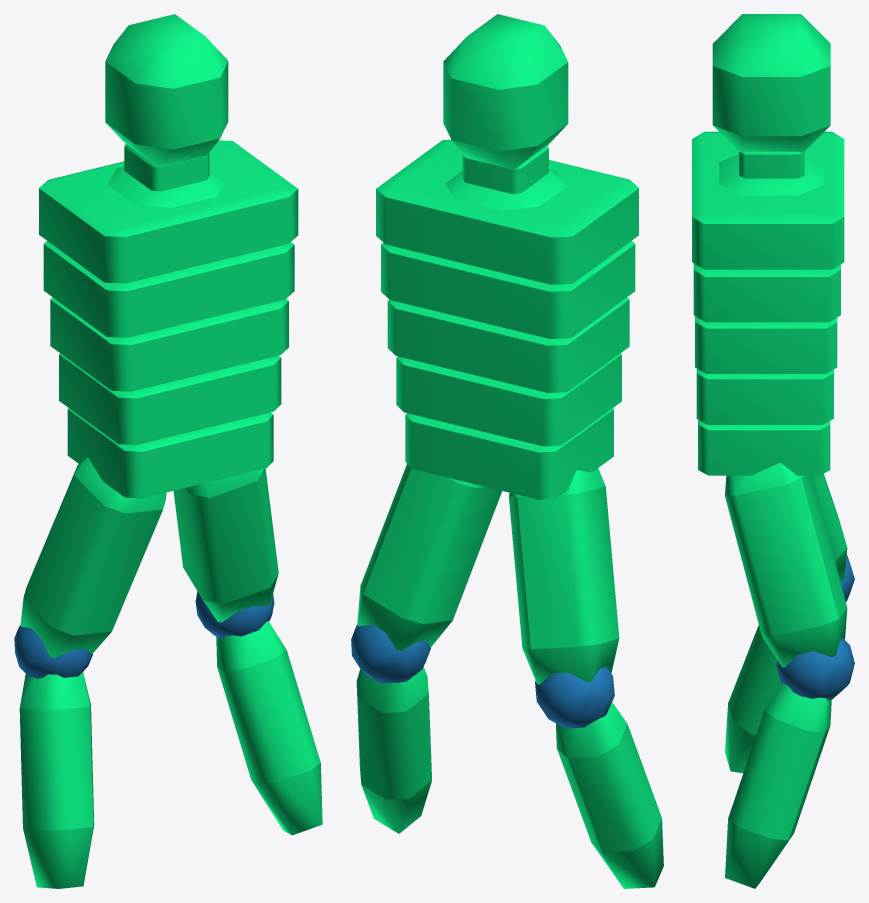
The model's file is Robots and Humanoids.glb.
3 renders of one model, left to right at view 1: azimuth 30°, elevation 25°; view 2: azimuth 150°, elevation 25°; view 3: azimuth 270°, elevation 25°, orthographic. The views are drawn at different scales.
Visible parts, largest first — view 1: Segment (×4), UpperLeg (×2), LowerArm (×2), Head, BottomSegment, Elbow (×2), TorsoConnection, Neck; view 2: Segment (×4), UpperLeg (×2), LowerArm (×2), Head, BottomSegment, Elbow (×2), TorsoConnection, Neck; view 3: Segment (×4), UpperLeg (×2), LowerArm (×2), Head, BottomSegment, Elbow (×2), TorsoConnection, Neck.
Part boxes in pixels (left/top/right/bottom): Segment (×4): left=39, top=140, right=298, bottom=445; UpperLeg (×2): left=20, top=457, right=278, bottom=658; LowerArm (×2): left=19, top=621, right=322, bottom=888; Head: left=105, top=14, right=228, bottom=166; BottomSegment: left=67, top=408, right=273, bottom=498; Elbow (×2): left=14, top=591, right=274, bottom=678; TorsoConnection: left=107, top=167, right=226, bottom=207; Neck: left=124, top=144, right=209, bottom=191; Segment (×4): left=376, top=139, right=638, bottom=446; UpperLeg (×2): left=357, top=464, right=619, bottom=684; LowerArm (×2): left=356, top=667, right=663, bottom=888; Head: left=443, top=14, right=568, bottom=168; BottomSegment: left=405, top=408, right=613, bottom=500; Elbow (×2): left=351, top=624, right=614, bottom=728; TorsoConnection: left=445, top=169, right=566, bottom=210; Neck: left=462, top=146, right=548, bottom=193; Segment (×4): left=692, top=131, right=844, bottom=424; UpperLeg (×2): left=725, top=462, right=847, bottom=667; LowerArm (×2): left=725, top=625, right=831, bottom=888; Head: left=712, top=14, right=830, bottom=152; BottomSegment: left=698, top=419, right=830, bottom=475; Elbow (×2): left=776, top=554, right=854, bottom=700; TorsoConnection: left=719, top=154, right=824, bottom=195; Neck: left=739, top=151, right=804, bottom=178.
Size of the model in its own units: 1.24 by 3.38 by 0.621.
